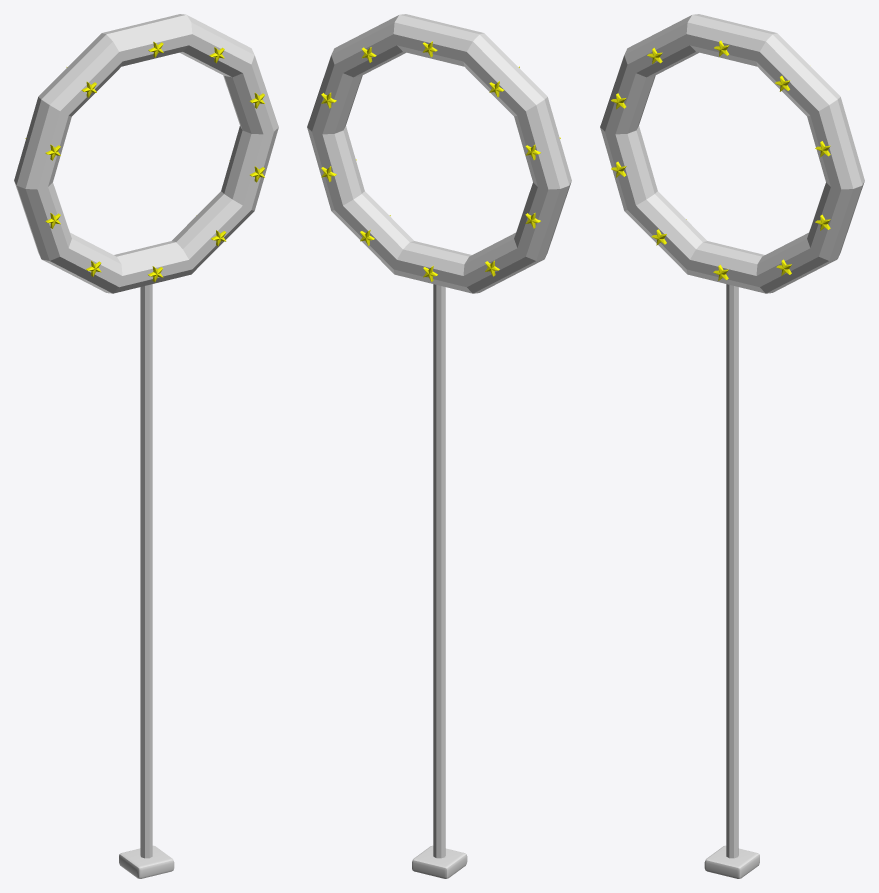
The model's file is MediumRingPole.fbx.
3 renders of one model, left to right at view 1: azimuth 30°, elevation 25°; view 2: azimuth 150°, elevation 25°; view 3: azimuth 330°, elevation 25°, orthographic.
Parts seen in each view (by area): view 1: Ring, RingPole, RingPoleBase; view 2: Ring, RingPole, RingPoleBase; view 3: Ring, RingPole, RingPoleBase.
Boxes of the visible parts, left/top/right/bottom form: Ring: left=14, top=14, right=278, bottom=293; RingPole: left=140, top=284, right=152, bottom=858; RingPoleBase: left=119, top=845, right=174, bottom=878; Ring: left=307, top=14, right=571, bottom=293; RingPole: left=433, top=284, right=445, bottom=858; RingPoleBase: left=412, top=845, right=467, bottom=878; Ring: left=600, top=14, right=864, bottom=293; RingPole: left=726, top=284, right=738, bottom=858; RingPoleBase: left=704, top=845, right=759, bottom=878.
Bounding box in the file's own units: 5.26 × 16.31 × 0.7806.
